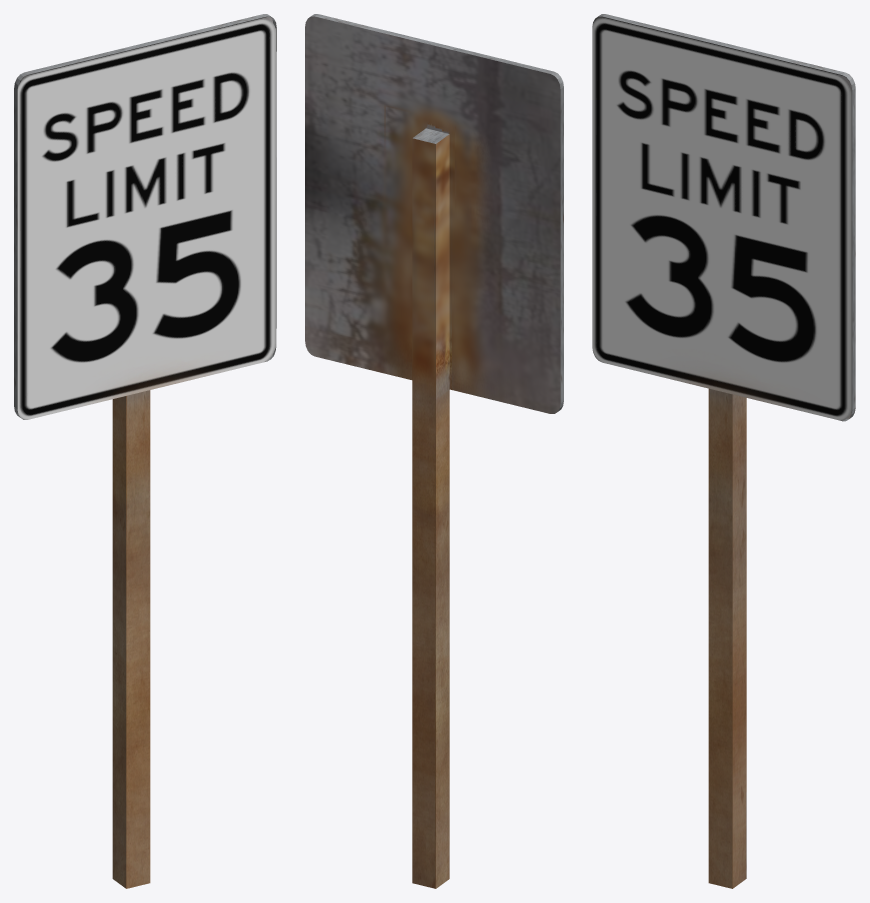
Rendered from placa.obj.
3 views of the same model, side by side, from view 1: azimuth 30°, elevation 25°; view 2: azimuth 150°, elevation 25°; view 3: azimuth 330°, elevation 25° (orthographic).
Visible parts, largest first — view 1: Plane_Plane.001; view 2: Plane_Plane.001; view 3: Plane_Plane.001.
Part boxes in pixels (x1,y1,x2,y2): Plane_Plane.001: [14, 14, 276, 888]; Plane_Plane.001: [305, 14, 563, 888]; Plane_Plane.001: [592, 14, 855, 888].
Bounding box in the file's own units: 3.94 × 12.24 × 0.4589.
Materials: 1 (1 with a texture image).
